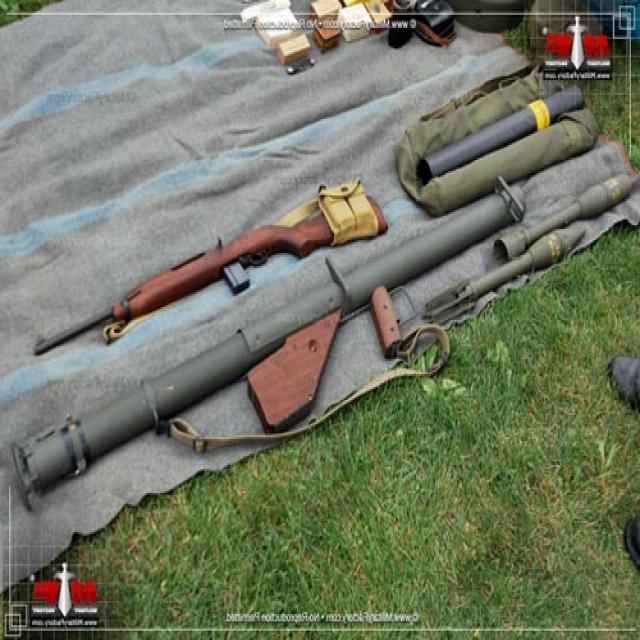rocket launcher: (4, 174, 536, 516)
sniper rifle: (23, 175, 392, 374)
